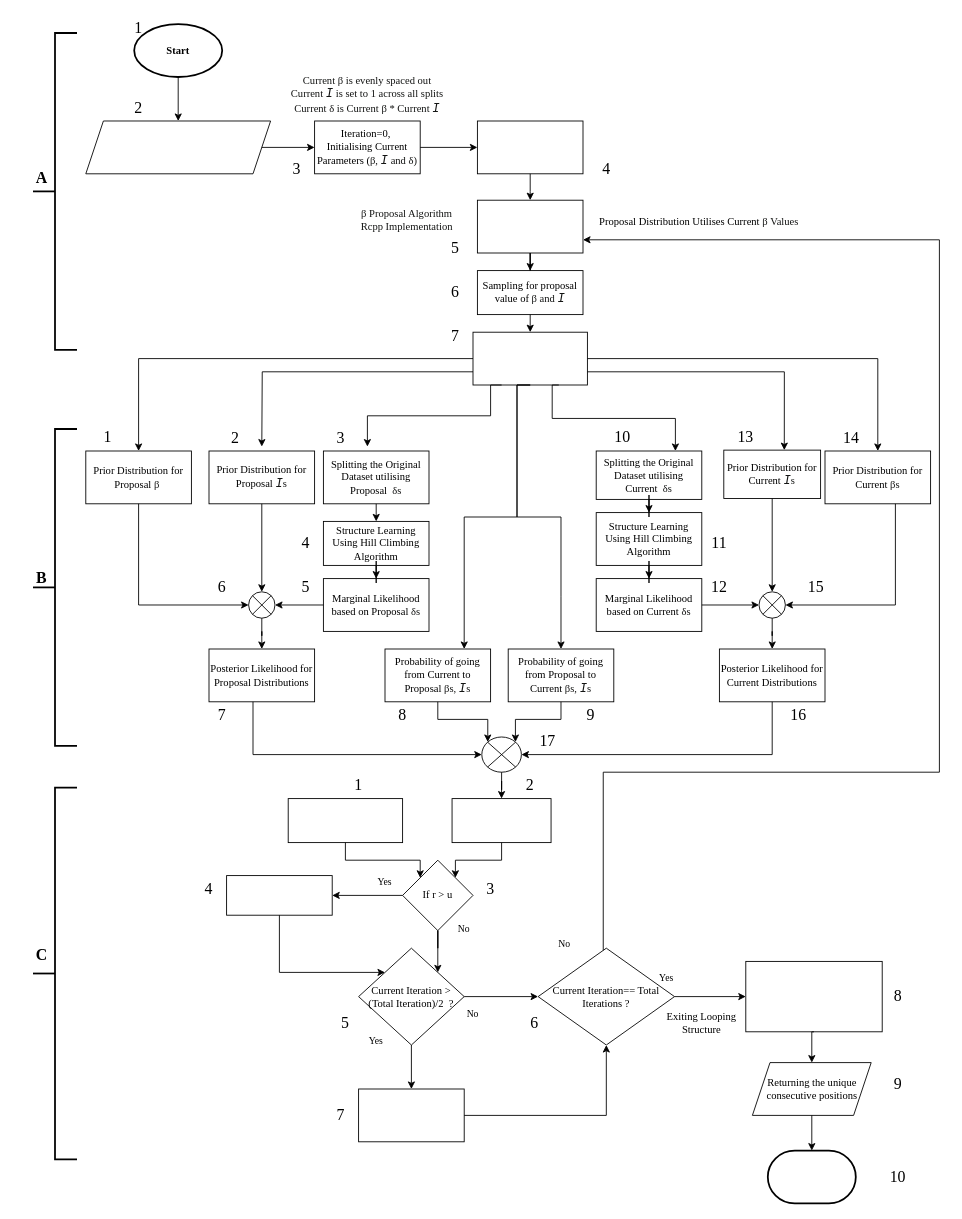
The diagram is 962 pixels wide and 1219 high, and some of its shapes have lost their labels. The shapes that lost their labels are listed below. From the top down, each one's centre as x and y in pixels, then its label:
At point 178,147: "Pre-Processed Dataset, Maximum Transitions k, Number of MCMC iterations".
At point 530,147: "Empty Dataframes for Storage of the Posterior Samples".
At point 530,226: "Next Iteration, Proposal Distribution for βs".
At point 529,358: "Calculate Proposal δs (Proposal β x Proposal I )".
At point 345,820: "Sampling a number u from Uniform Distribution [0 , 1]".
At point 501,820: "Calculate Acceptance Ratio, r".
At point 279,895: "Set Proposed β , I to Current β , I".
At point 813,996: "Finding Non-Zero δs which correspond to unique positions in the dataset".
At point 411,1115: "Storing Current I s and δs".
At point 811,1176: "End".
